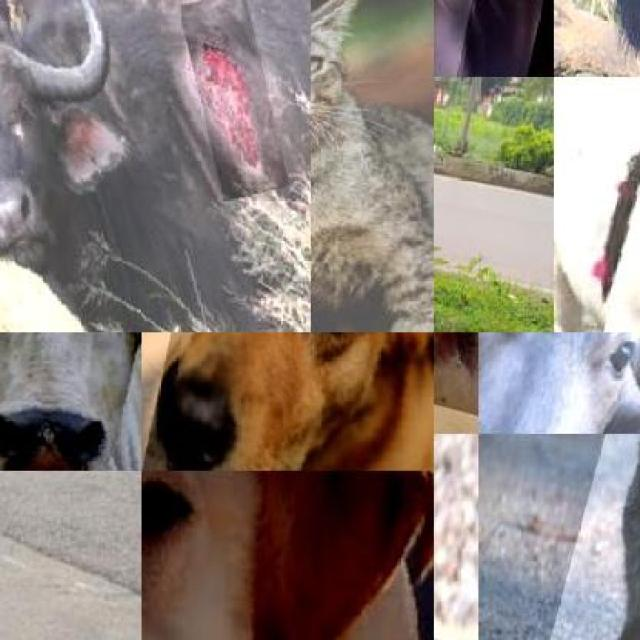buffalo: (0, 0, 311, 332), (478, 332, 640, 434)
cat: (311, 0, 434, 332), (511, 434, 640, 640)
cow: (554, 77, 640, 332)
dog: (141, 471, 434, 640), (141, 332, 434, 471)
injured: (177, 0, 289, 200), (434, 332, 478, 432)
